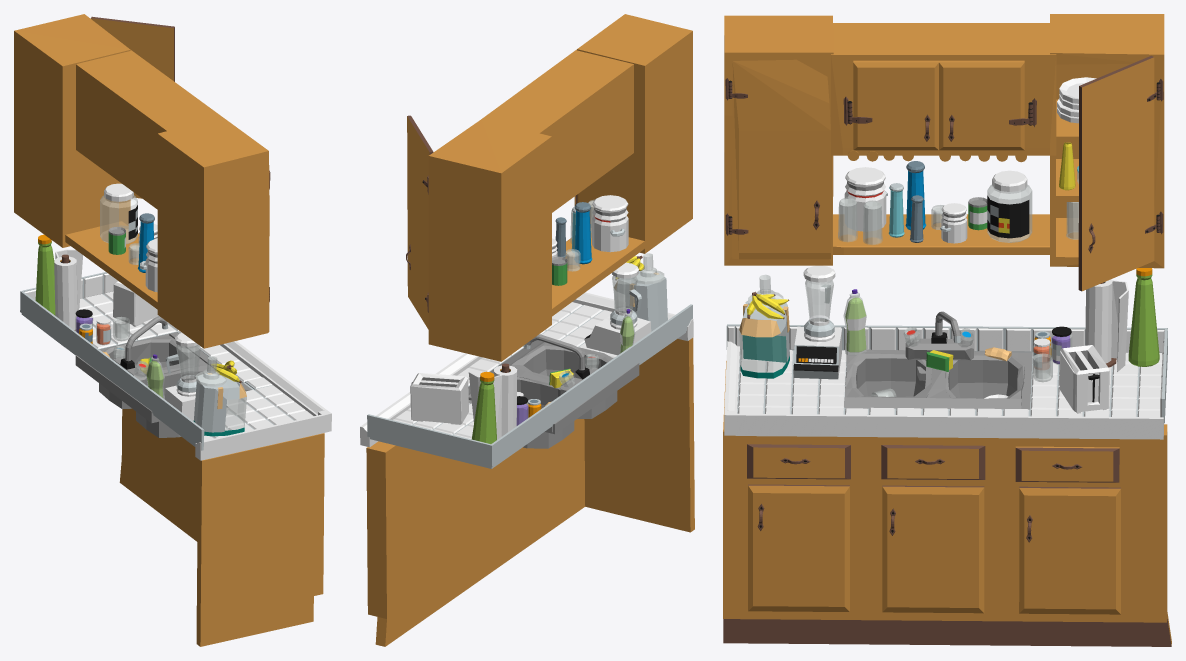
File: Kitchen2.glb
3 renders of one model, left to right at view 1: azimuth 30°, elevation 25°; view 2: azimuth 150°, elevation 25°; view 3: azimuth 270°, elevation 25°, orthographic. The views are drawn at different scales.
Visible parts, largest first — view 1: group1807070750, group127103481, group389376729, group1444541935, group1242291210, group1668960573, group1731526225, group824779890, group1367425366, group1000683941, group1066384277, group431938315 (+18 smaller); view 2: group1807070750, group389376729, group127103481, group1444541935, group824779890, group1534985751, group740783954, group1000683941, group1668960573, group1242291210, group1736367208, group1731526225 (+15 smaller); view 3: group1807070750, group127103481, group824779890, group1444541935, group389376729, group2081104290, group822203585, group501348001, group1668960573, group1731526225, group1000683941, group1242291210 (+24 smaller).
Boxes of the visible parts, <box> form: group1807070750: <box>119,408,324,646</box>; group127103481: <box>157,117,270,348</box>; group389376729: <box>14,14,130,247</box>; group1444541935: <box>76,50,221,209</box>; group1242291210: <box>193,356,246,436</box>; group1668960573: <box>65,221,157,309</box>; group1731526225: <box>153,385,313,446</box>; group824779890: <box>90,16,174,198</box>; group1367425366: <box>195,414,323,460</box>; group1000683941: <box>165,333,228,421</box>; group1066384277: <box>54,249,82,331</box>; group431938315: <box>100,183,137,244</box>; group1807070750: <box>366,338,694,646</box>; group389376729: <box>428,119,551,361</box>; group127103481: <box>574,14,692,253</box>; group1444541935: <box>481,49,633,212</box>; group824779890: <box>406,115,433,329</box>; group1534985751: <box>367,414,490,466</box>; group740783954: <box>410,373,468,424</box>; group1000683941: <box>584,262,651,355</box>; group1668960573: <box>552,232,644,316</box>; group1242291210: <box>614,253,667,331</box>; group1736367208: <box>510,342,617,418</box>; group1731526225: <box>539,302,685,364</box>; group1807070750: <box>723,361,1171,646</box>; group127103481: <box>724,15,833,265</box>; group824779890: <box>1078,55,1156,291</box>; group1444541935: <box>831,23,1056,162</box>; group389376729: <box>1050,14,1164,268</box>; group2081104290: <box>735,413,1163,439</box>; group822203585: <box>939,60,1024,150</box>; group501348001: <box>853,60,938,150</box>; group1668960573: <box>833,214,1049,254</box>; group1731526225: <box>737,349,846,414</box>; group1000683941: <box>793,265,841,379</box>; group1242291210: <box>739,274,789,378</box>.
Size of the model in its own units: 0.8223 by 2.77 by 1.99.
